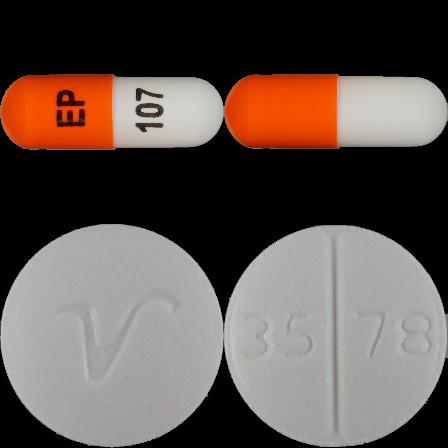0179-0050: (0, 0, 224, 224)
